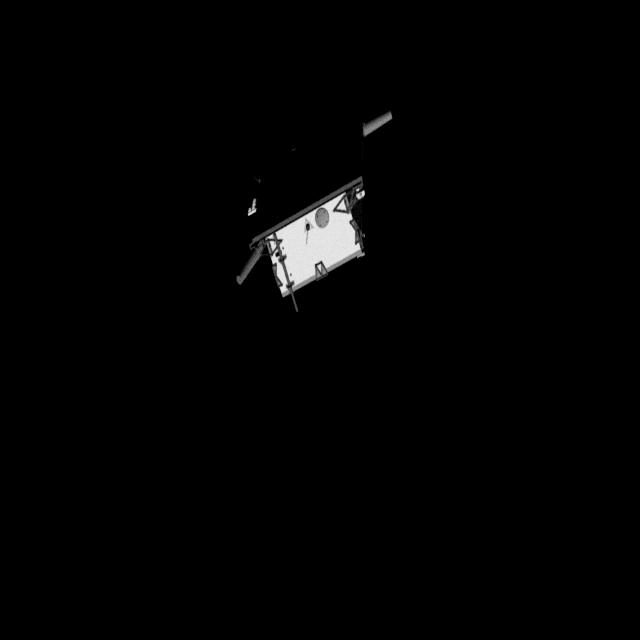satellite: (230, 104, 412, 324)
